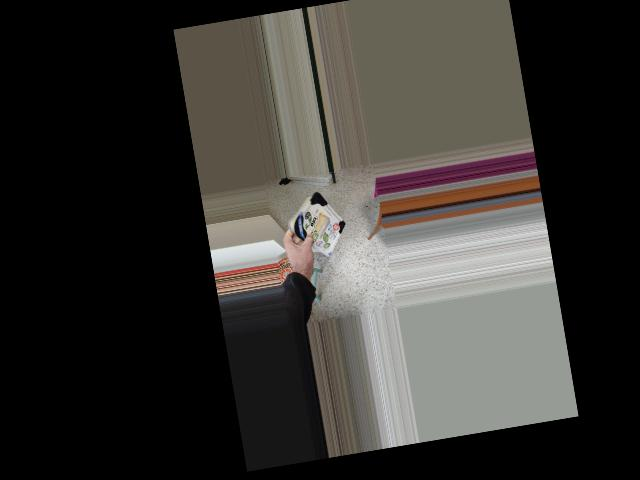cheese: (272, 189, 354, 254)
